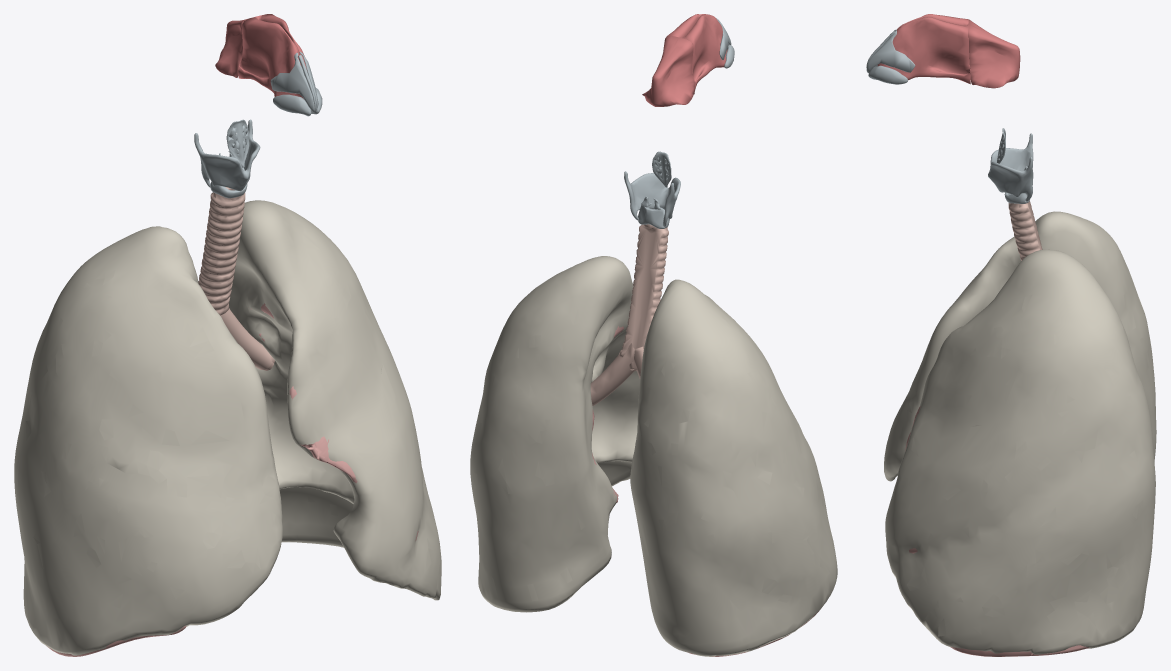
File: adult_male.respiratory.LOD0.glb
3 views of the same model, side by side, from view 1: azimuth 30°, elevation 25°; view 2: azimuth 150°, elevation 25°; view 3: azimuth 270°, elevation 25° (orthographic). The views are drawn at different scales.
Visible parts, largest first — view 1: ADULT.MALE.RESPIRATORY.PLEURA, ADULT.MALE.RESPIRATORY.TRACHEA, ADULT.MALE.RESPIRATORY.MUCOSA_OF_NASAL_CAVITY, ADULT.MALE.RESPIRATORY.THYROID_CARTILAGE, ADULT.MALE.RESPIRATORY.NASOPHARYNX, ADULT.MALE.RESPIRATORY.LEFT_MAIN_BRONCHUS, ADULT.MALE.RESPIRATORY.LATERAL_PROCESS_OF_NASAL_SEPTAL_CARTI, ADULT.MALE.RESPIRATORY.SUPERIOR_LOBE_OF_LEFT_LUNG, ADULT.MALE.RESPIRATORY.EPIGLOTTIS; view 2: ADULT.MALE.RESPIRATORY.PLEURA, ADULT.MALE.RESPIRATORY.TRACHEA, ADULT.MALE.RESPIRATORY.NASOPHARYNX, ADULT.MALE.RESPIRATORY.MUCOSA_OF_NASAL_CAVITY, ADULT.MALE.RESPIRATORY.THYROID_CARTILAGE, ADULT.MALE.RESPIRATORY.LEFT_MAIN_BRONCHUS; view 3: ADULT.MALE.RESPIRATORY.PLEURA, ADULT.MALE.RESPIRATORY.MUCOSA_OF_NASAL_CAVITY, ADULT.MALE.RESPIRATORY.NASOPHARYNX, ADULT.MALE.RESPIRATORY.THYROID_CARTILAGE, ADULT.MALE.RESPIRATORY.TRACHEA, ADULT.MALE.RESPIRATORY.LATERAL_PROCESS_OF_NASAL_SEPTAL_CARTI, ADULT.MALE.RESPIRATORY.INFERIOR_LOBE_OF_LEFT_LUNG, ADULT.MALE.RESPIRATORY.MAJOR_ALAR_CARTILAGE.L.
Boxes of the visible parts, <box> form: ADULT.MALE.RESPIRATORY.PLEURA: <box>14,200,441,655</box>; ADULT.MALE.RESPIRATORY.TRACHEA: <box>198,187,245,315</box>; ADULT.MALE.RESPIRATORY.MUCOSA_OF_NASAL_CAVITY: <box>238,14,306,98</box>; ADULT.MALE.RESPIRATORY.THYROID_CARTILAGE: <box>194,119,260,191</box>; ADULT.MALE.RESPIRATORY.NASOPHARYNX: <box>215,15,261,77</box>; ADULT.MALE.RESPIRATORY.LEFT_MAIN_BRONCHUS: <box>220,309,272,369</box>; ADULT.MALE.RESPIRATORY.LATERAL_PROCESS_OF_NASAL_SEPTAL_CARTI: <box>270,52,314,112</box>; ADULT.MALE.RESPIRATORY.SUPERIOR_LOBE_OF_LEFT_LUNG: <box>248,303,418,540</box>; ADULT.MALE.RESPIRATORY.EPIGLOTTIS: <box>226,119,249,167</box>; ADULT.MALE.RESPIRATORY.PLEURA: <box>470,256,837,656</box>; ADULT.MALE.RESPIRATORY.TRACHEA: <box>619,224,668,370</box>; ADULT.MALE.RESPIRATORY.NASOPHARYNX: <box>642,36,694,106</box>; ADULT.MALE.RESPIRATORY.MUCOSA_OF_NASAL_CAVITY: <box>667,14,727,89</box>; ADULT.MALE.RESPIRATORY.THYROID_CARTILAGE: <box>624,171,680,226</box>; ADULT.MALE.RESPIRATORY.LEFT_MAIN_BRONCHUS: <box>590,343,634,405</box>; ADULT.MALE.RESPIRATORY.PLEURA: <box>884,211,1156,654</box>; ADULT.MALE.RESPIRATORY.MUCOSA_OF_NASAL_CAVITY: <box>877,14,970,84</box>; ADULT.MALE.RESPIRATORY.NASOPHARYNX: <box>968,19,1020,88</box>; ADULT.MALE.RESPIRATORY.THYROID_CARTILAGE: <box>988,133,1033,201</box>; ADULT.MALE.RESPIRATORY.TRACHEA: <box>1008,201,1042,260</box>; ADULT.MALE.RESPIRATORY.LATERAL_PROCESS_OF_NASAL_SEPTAL_CARTI: <box>866,30,915,73</box>; ADULT.MALE.RESPIRATORY.INFERIOR_LOBE_OF_LEFT_LUNG: <box>950,645,1089,656</box>; ADULT.MALE.RESPIRATORY.MAJOR_ALAR_CARTILAGE.L: <box>868,65,907,84</box>.
Bounding box in the file's own units: 0.2633 × 0.4306 × 0.2003.
